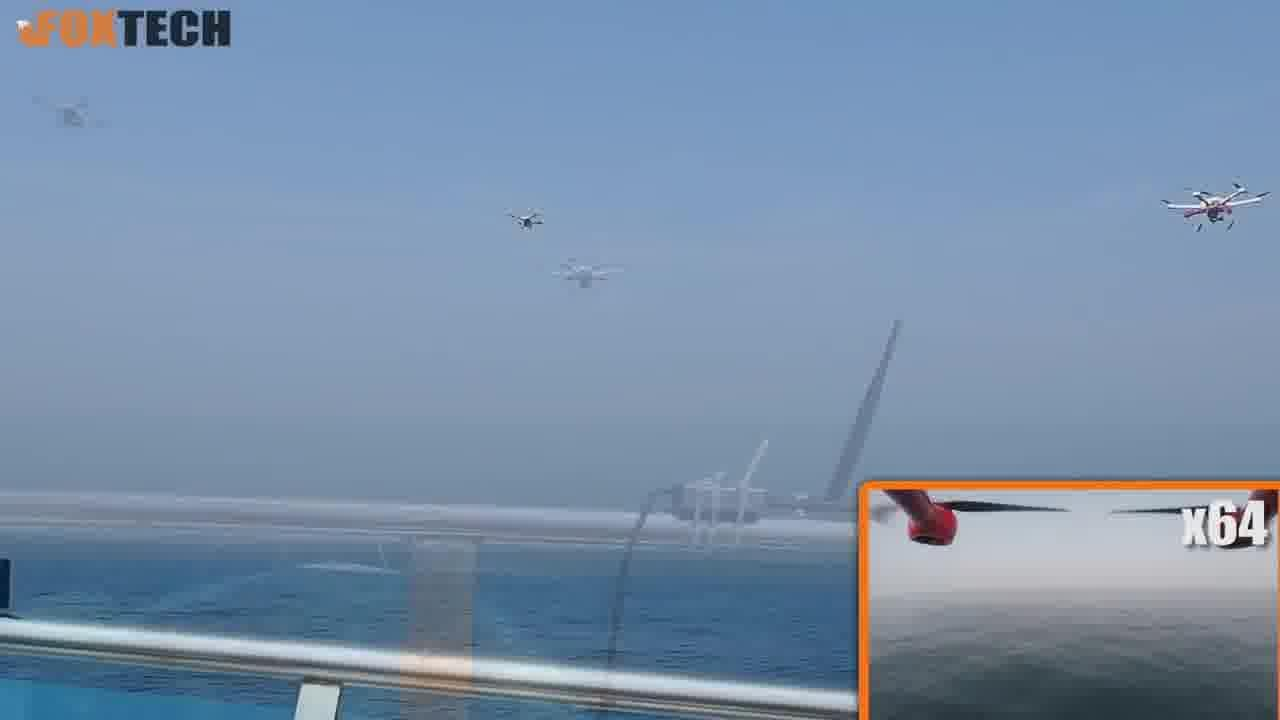drone: (1162, 172, 1274, 245), (502, 207, 552, 238)
